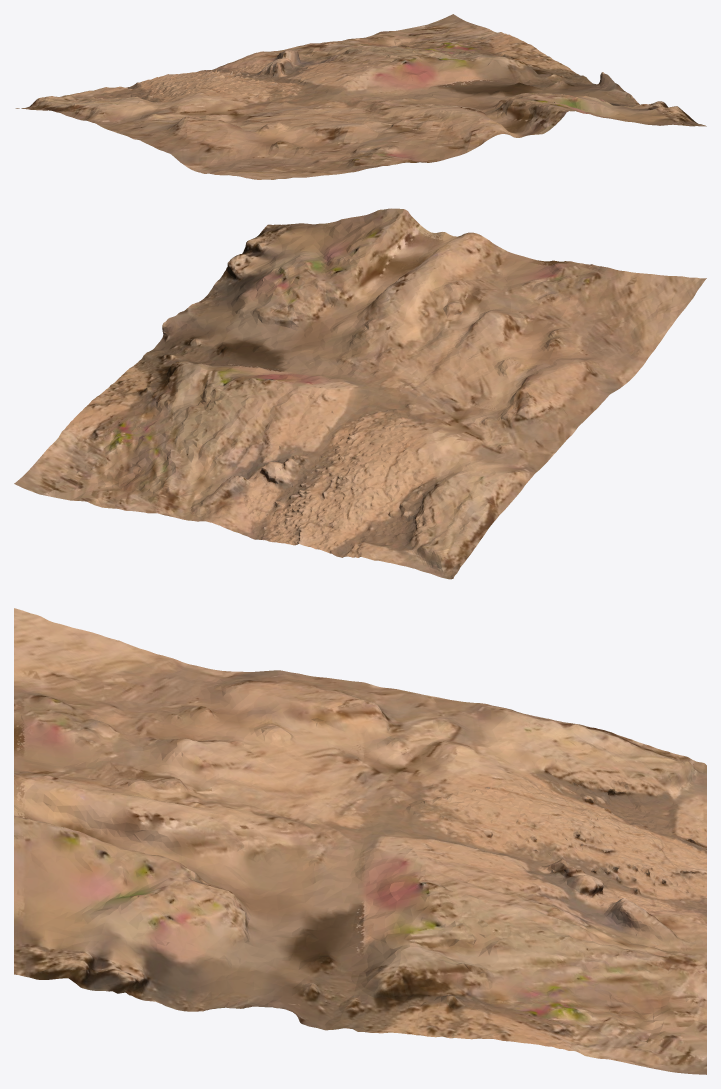
3 renders of one model, top to bottom at view 1: azimuth 30°, elevation 25°; view 2: azimuth 150°, elevation 25°; view 3: azimuth 270°, elevation 25°, orthographic. The views are drawn at different scales.
Bounding box in the file's own units: 2.09 × 0.5981 × 2.09.
Materials: 3 (3 with a texture image).
